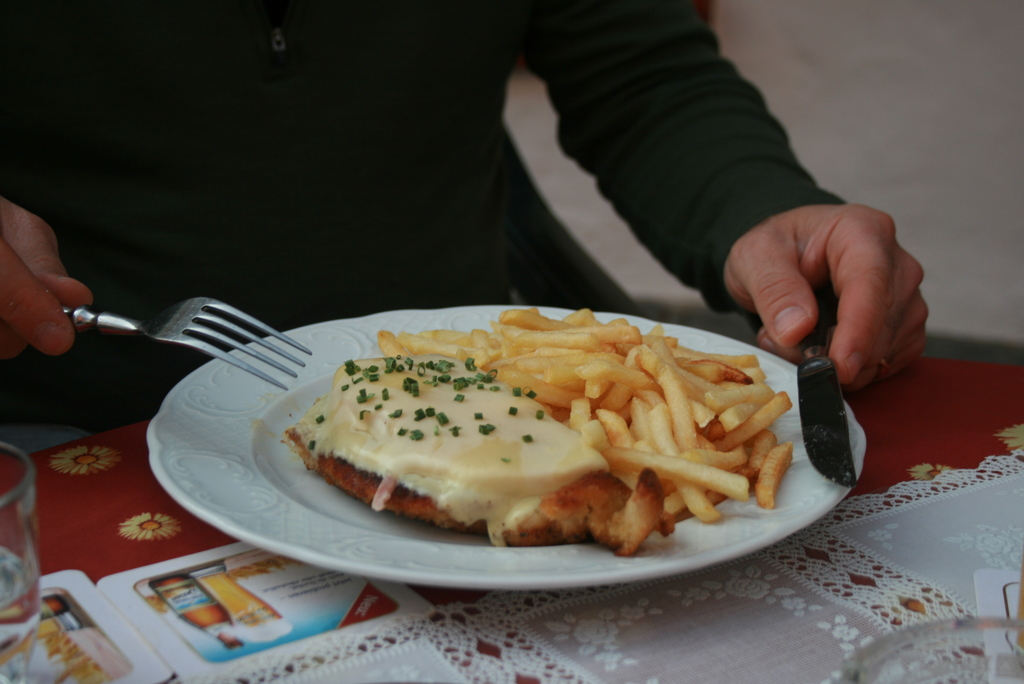French fries: (374, 300, 810, 539)
